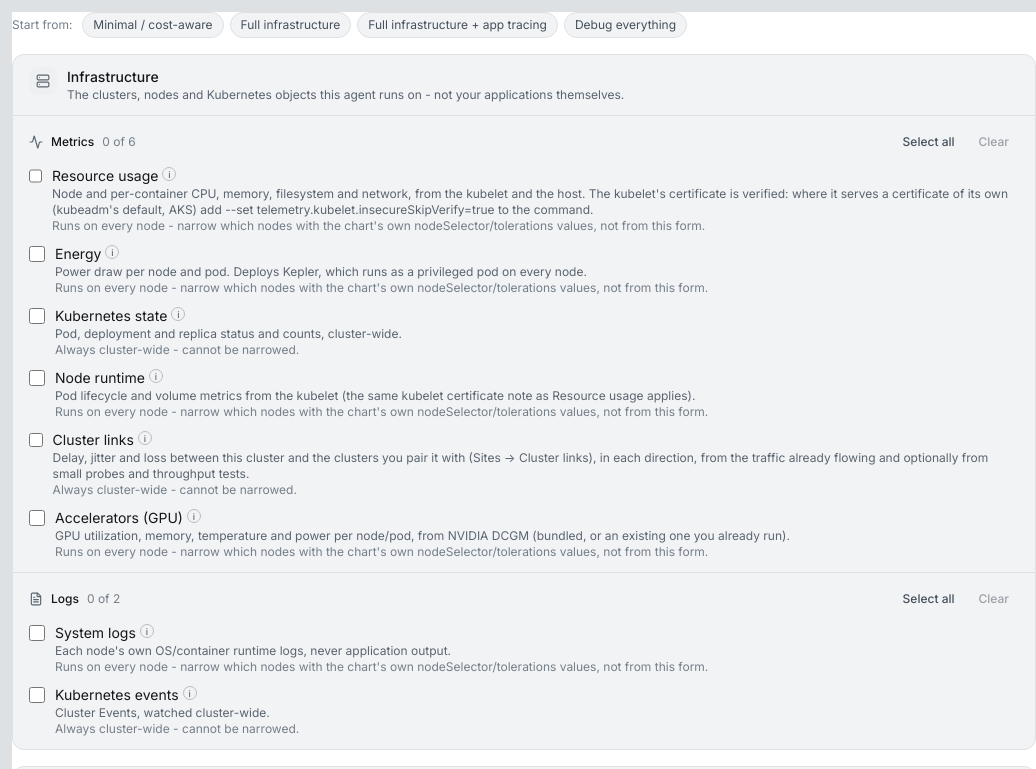
CollectStep: Cluster links › says what a pair needs, in one sentence, as soon as the signal is on
Click the checkbox with test id "t-clusterLinks" at (36, 440), box 29,432 -> 43,448
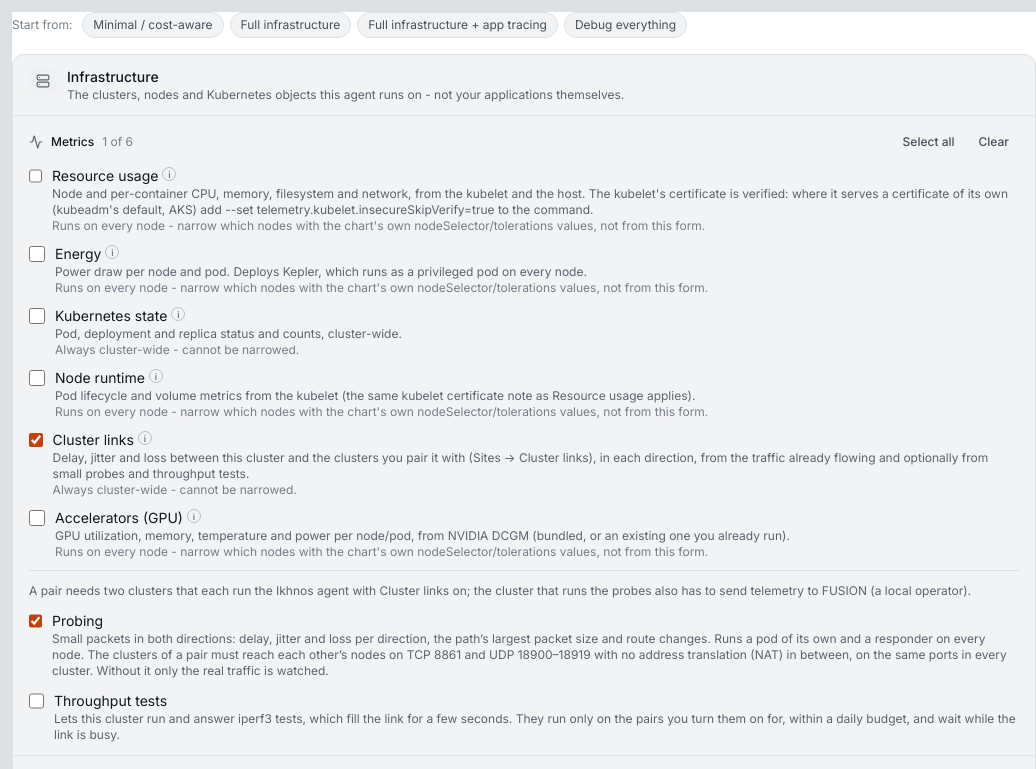
Result: the text with test id "t-links-requirement" shows "A pair needs two clusters that each run the Ikhnos agent with Cluster links on; the cluster that runs the probes also has to send telemetry to FUSION (a local o" at 29,583 -> 971,598
Result: the text with test id "t-links-requirement" shows "send telemetry to FUSION (a local operator)" at 29,583 -> 971,598
